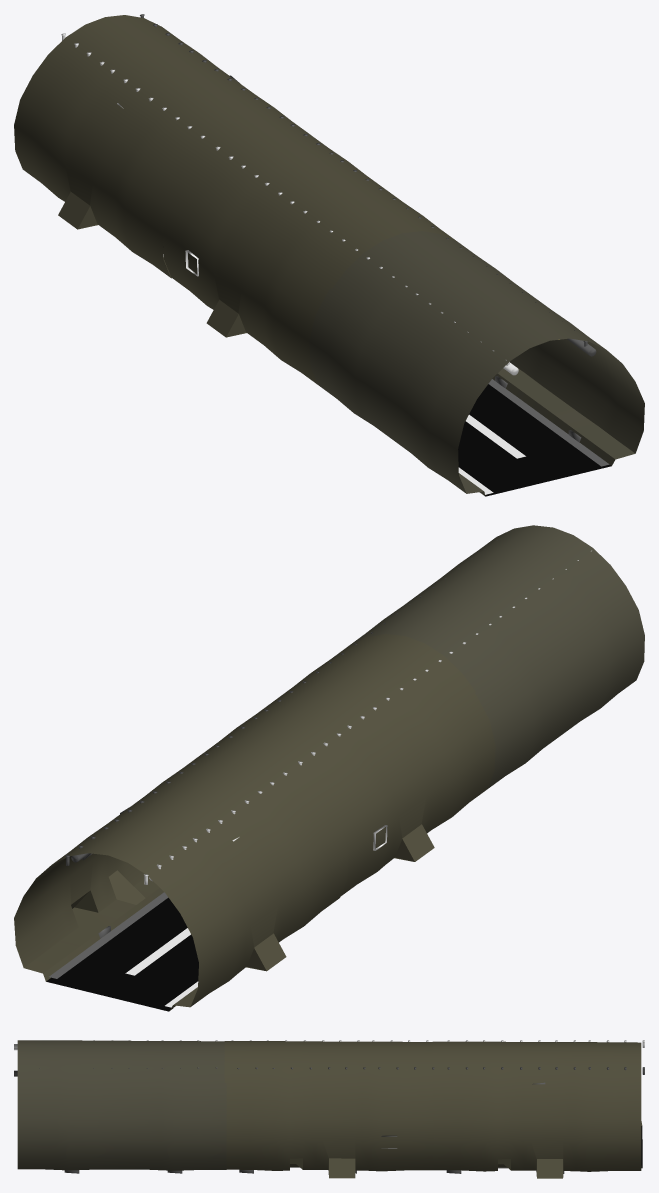
The model's file is CompletedTunnelUV_myranda.fbx.
3 views of the same model, one above another, from view 1: azimuth 30°, elevation 25°; view 2: azimuth 150°, elevation 25°; view 3: azimuth 270°, elevation 25° (orthographic). The views are drawn at different scales.
Visible parts, largest first — view 1: layouttunnel, frontblanktunnel, pipeconnection; view 2: layouttunnel, frontblanktunnel, pipeconnection; view 3: layouttunnel, frontblanktunnel, pipeconnection.
Part boxes in pixels (<box>): layouttunnel: <box>14,15,457,384</box>; frontblanktunnel: <box>309,231,644,496</box>; pipeconnection: <box>61,14,609,494</box>; layouttunnel: <box>14,634,495,1011</box>; frontblanktunnel: <box>350,525,644,789</box>; pipeconnection: <box>49,530,591,1008</box>; layouttunnel: <box>224,1041,642,1178</box>; frontblanktunnel: <box>17,1040,226,1170</box>; pipeconnection: <box>14,1040,644,1173</box>.
Size of the model in its own units: 311 by 209 by 1149.
